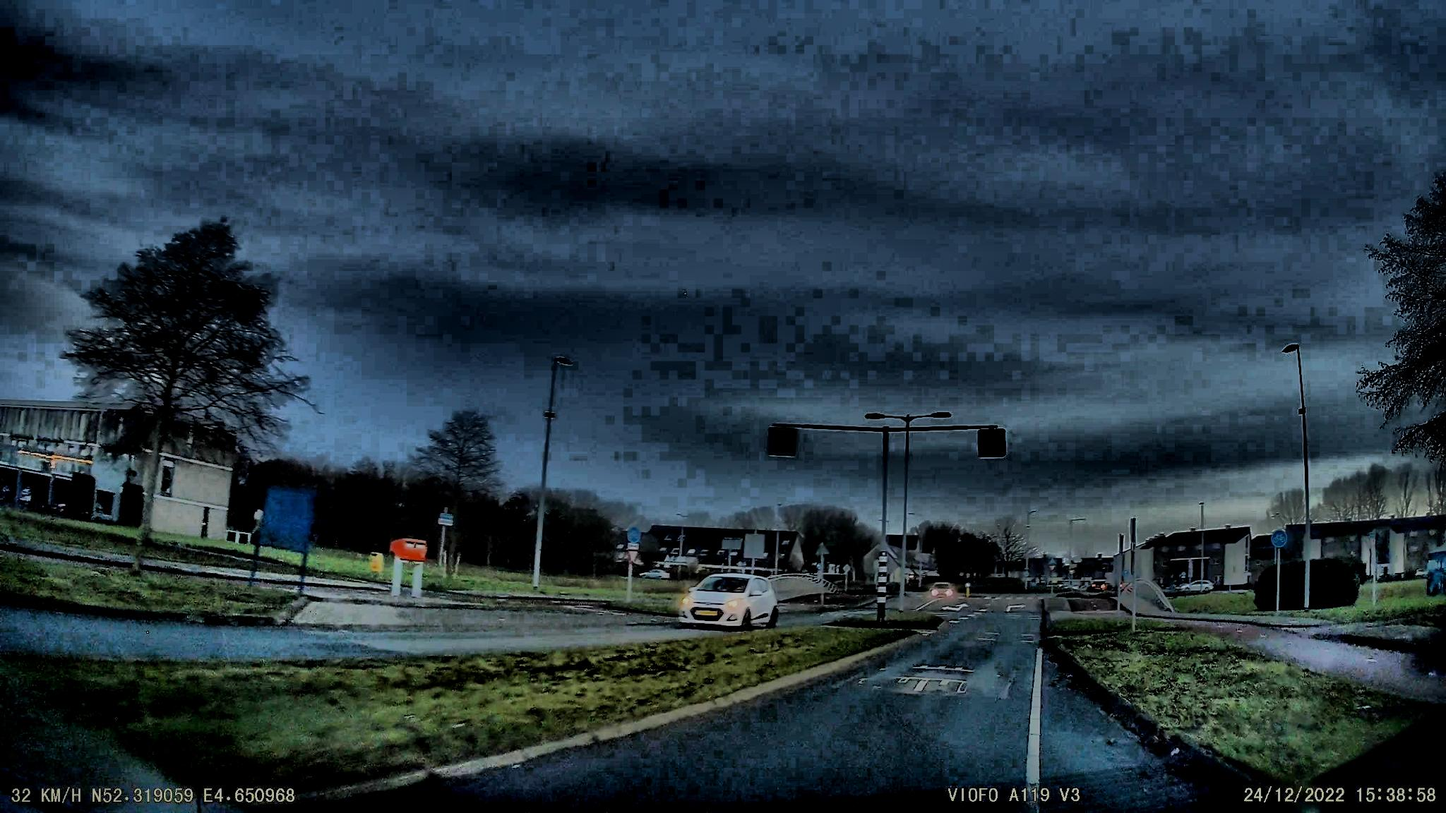Roads: (167, 610, 1253, 813)
